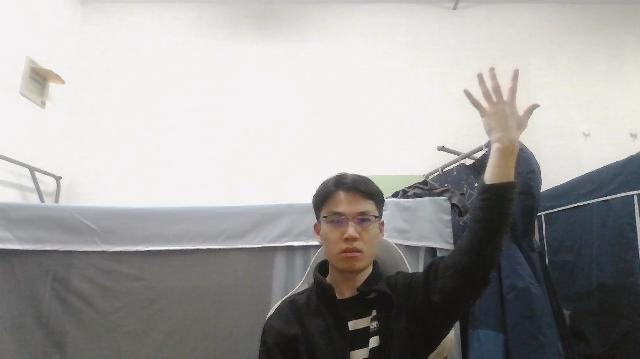five: (464, 65, 540, 145)
